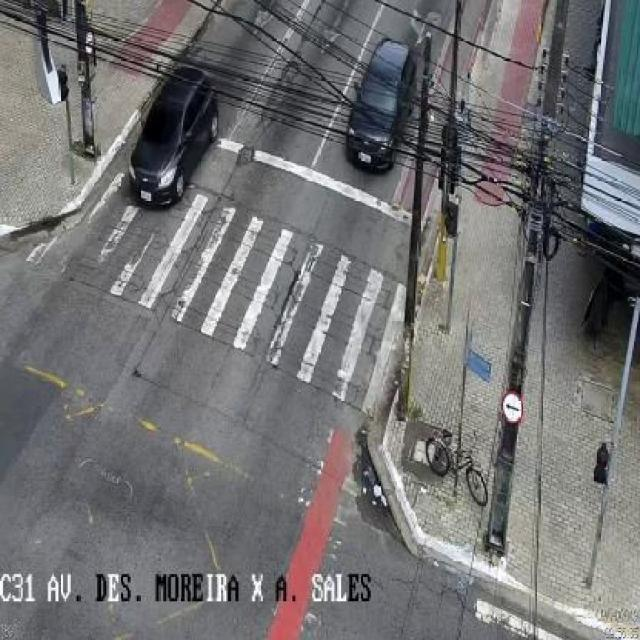Car: (128, 67, 221, 207), (346, 40, 419, 172)
Cycle: (425, 429, 492, 507)
